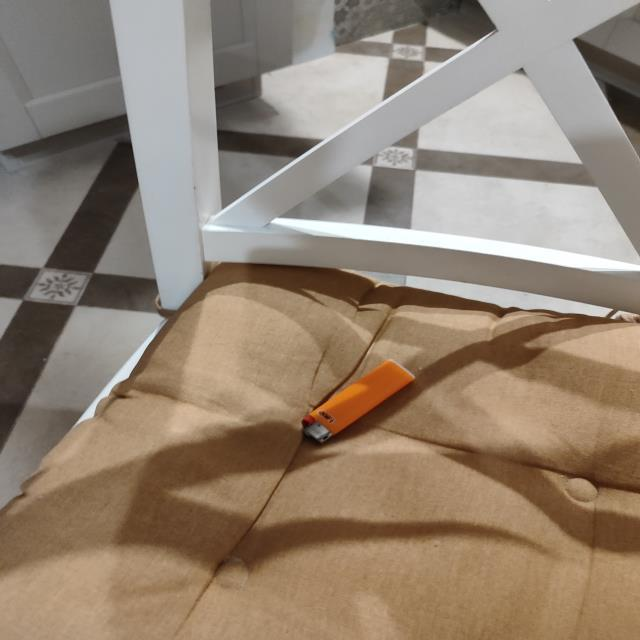lighter: (303, 360, 413, 442)
